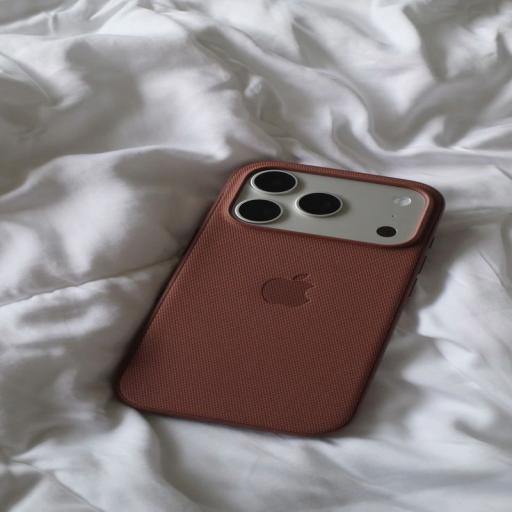people: (117, 161, 444, 436)
